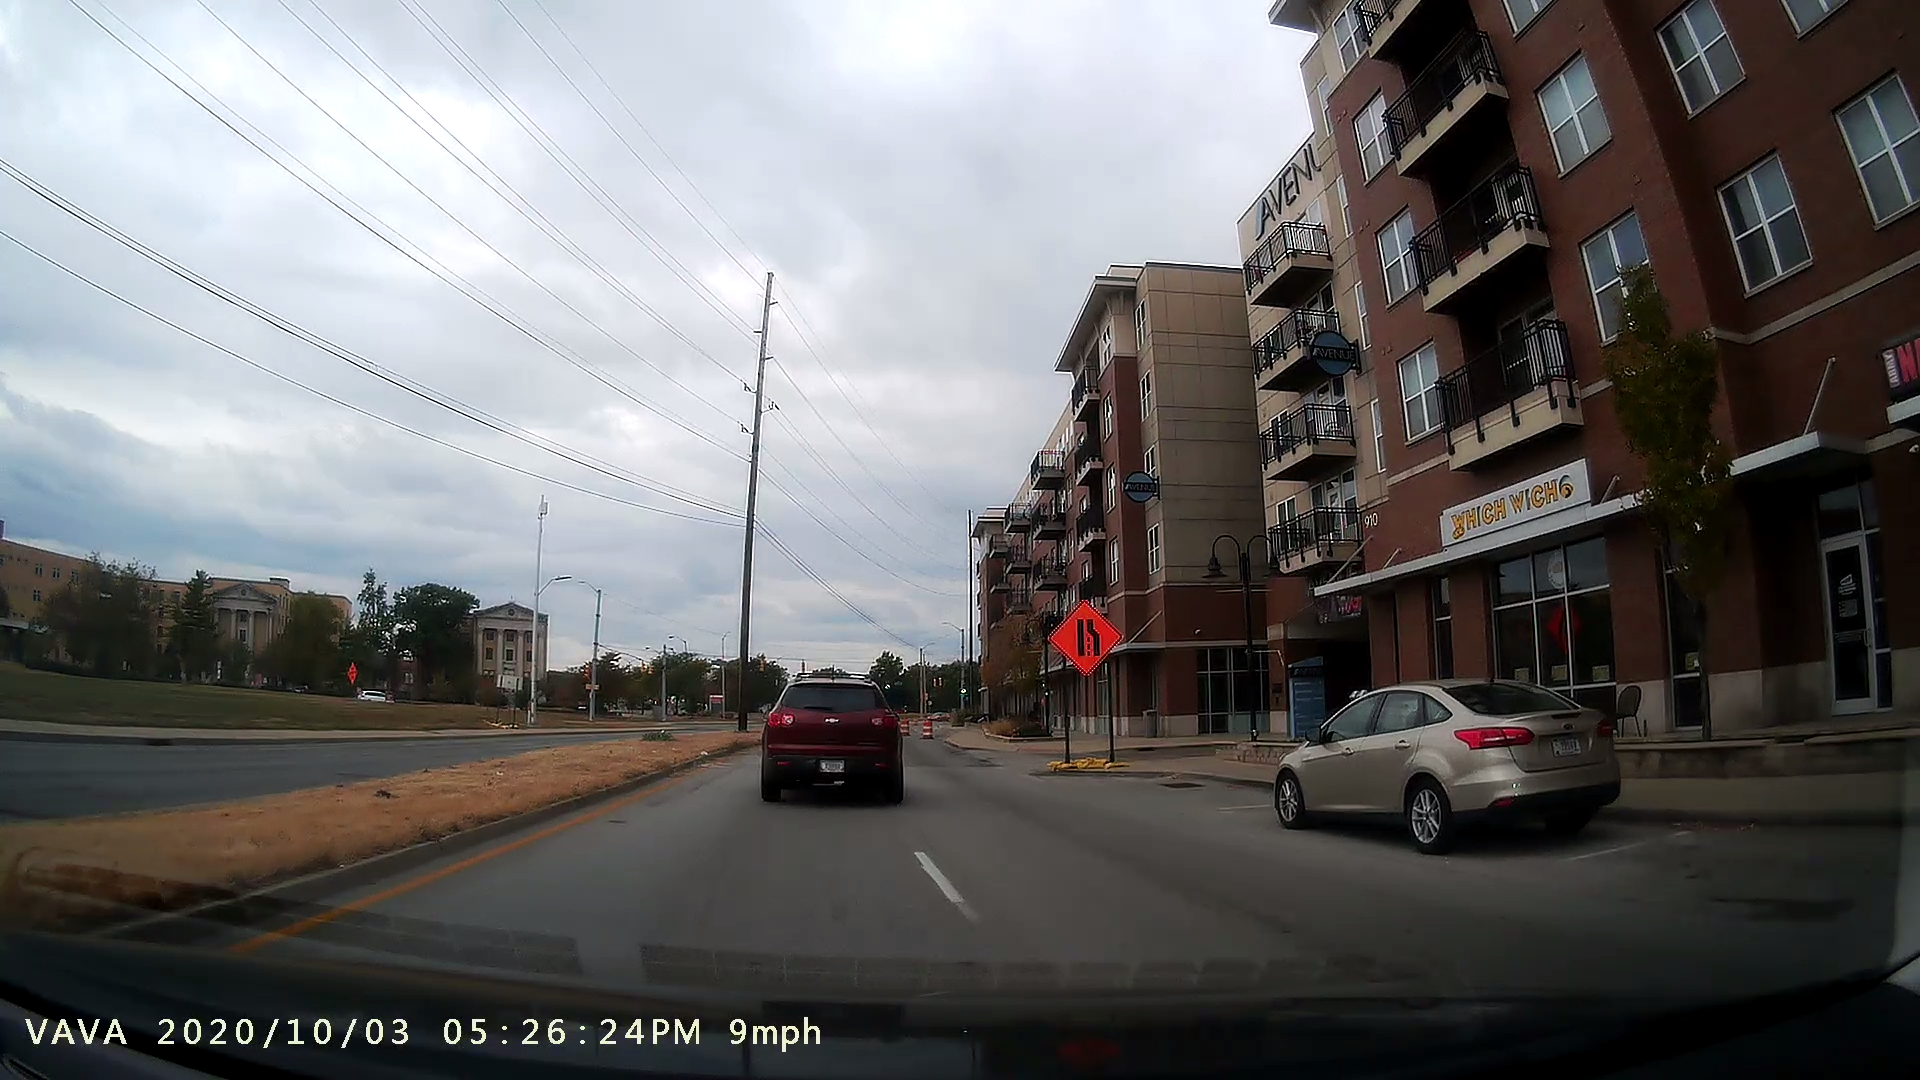ttcs_right_lane_reduction: (1033, 583, 1139, 775)
